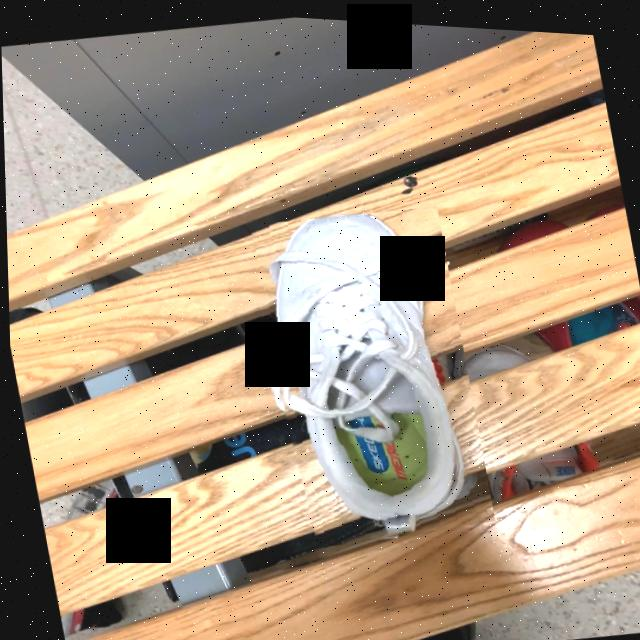shoe: (269, 209, 463, 533)
